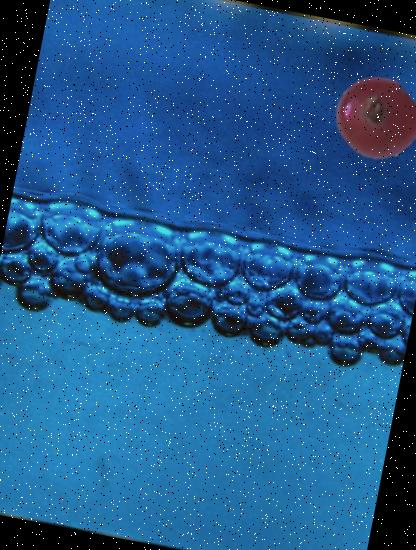Redcurrant: (328, 69, 416, 167)
